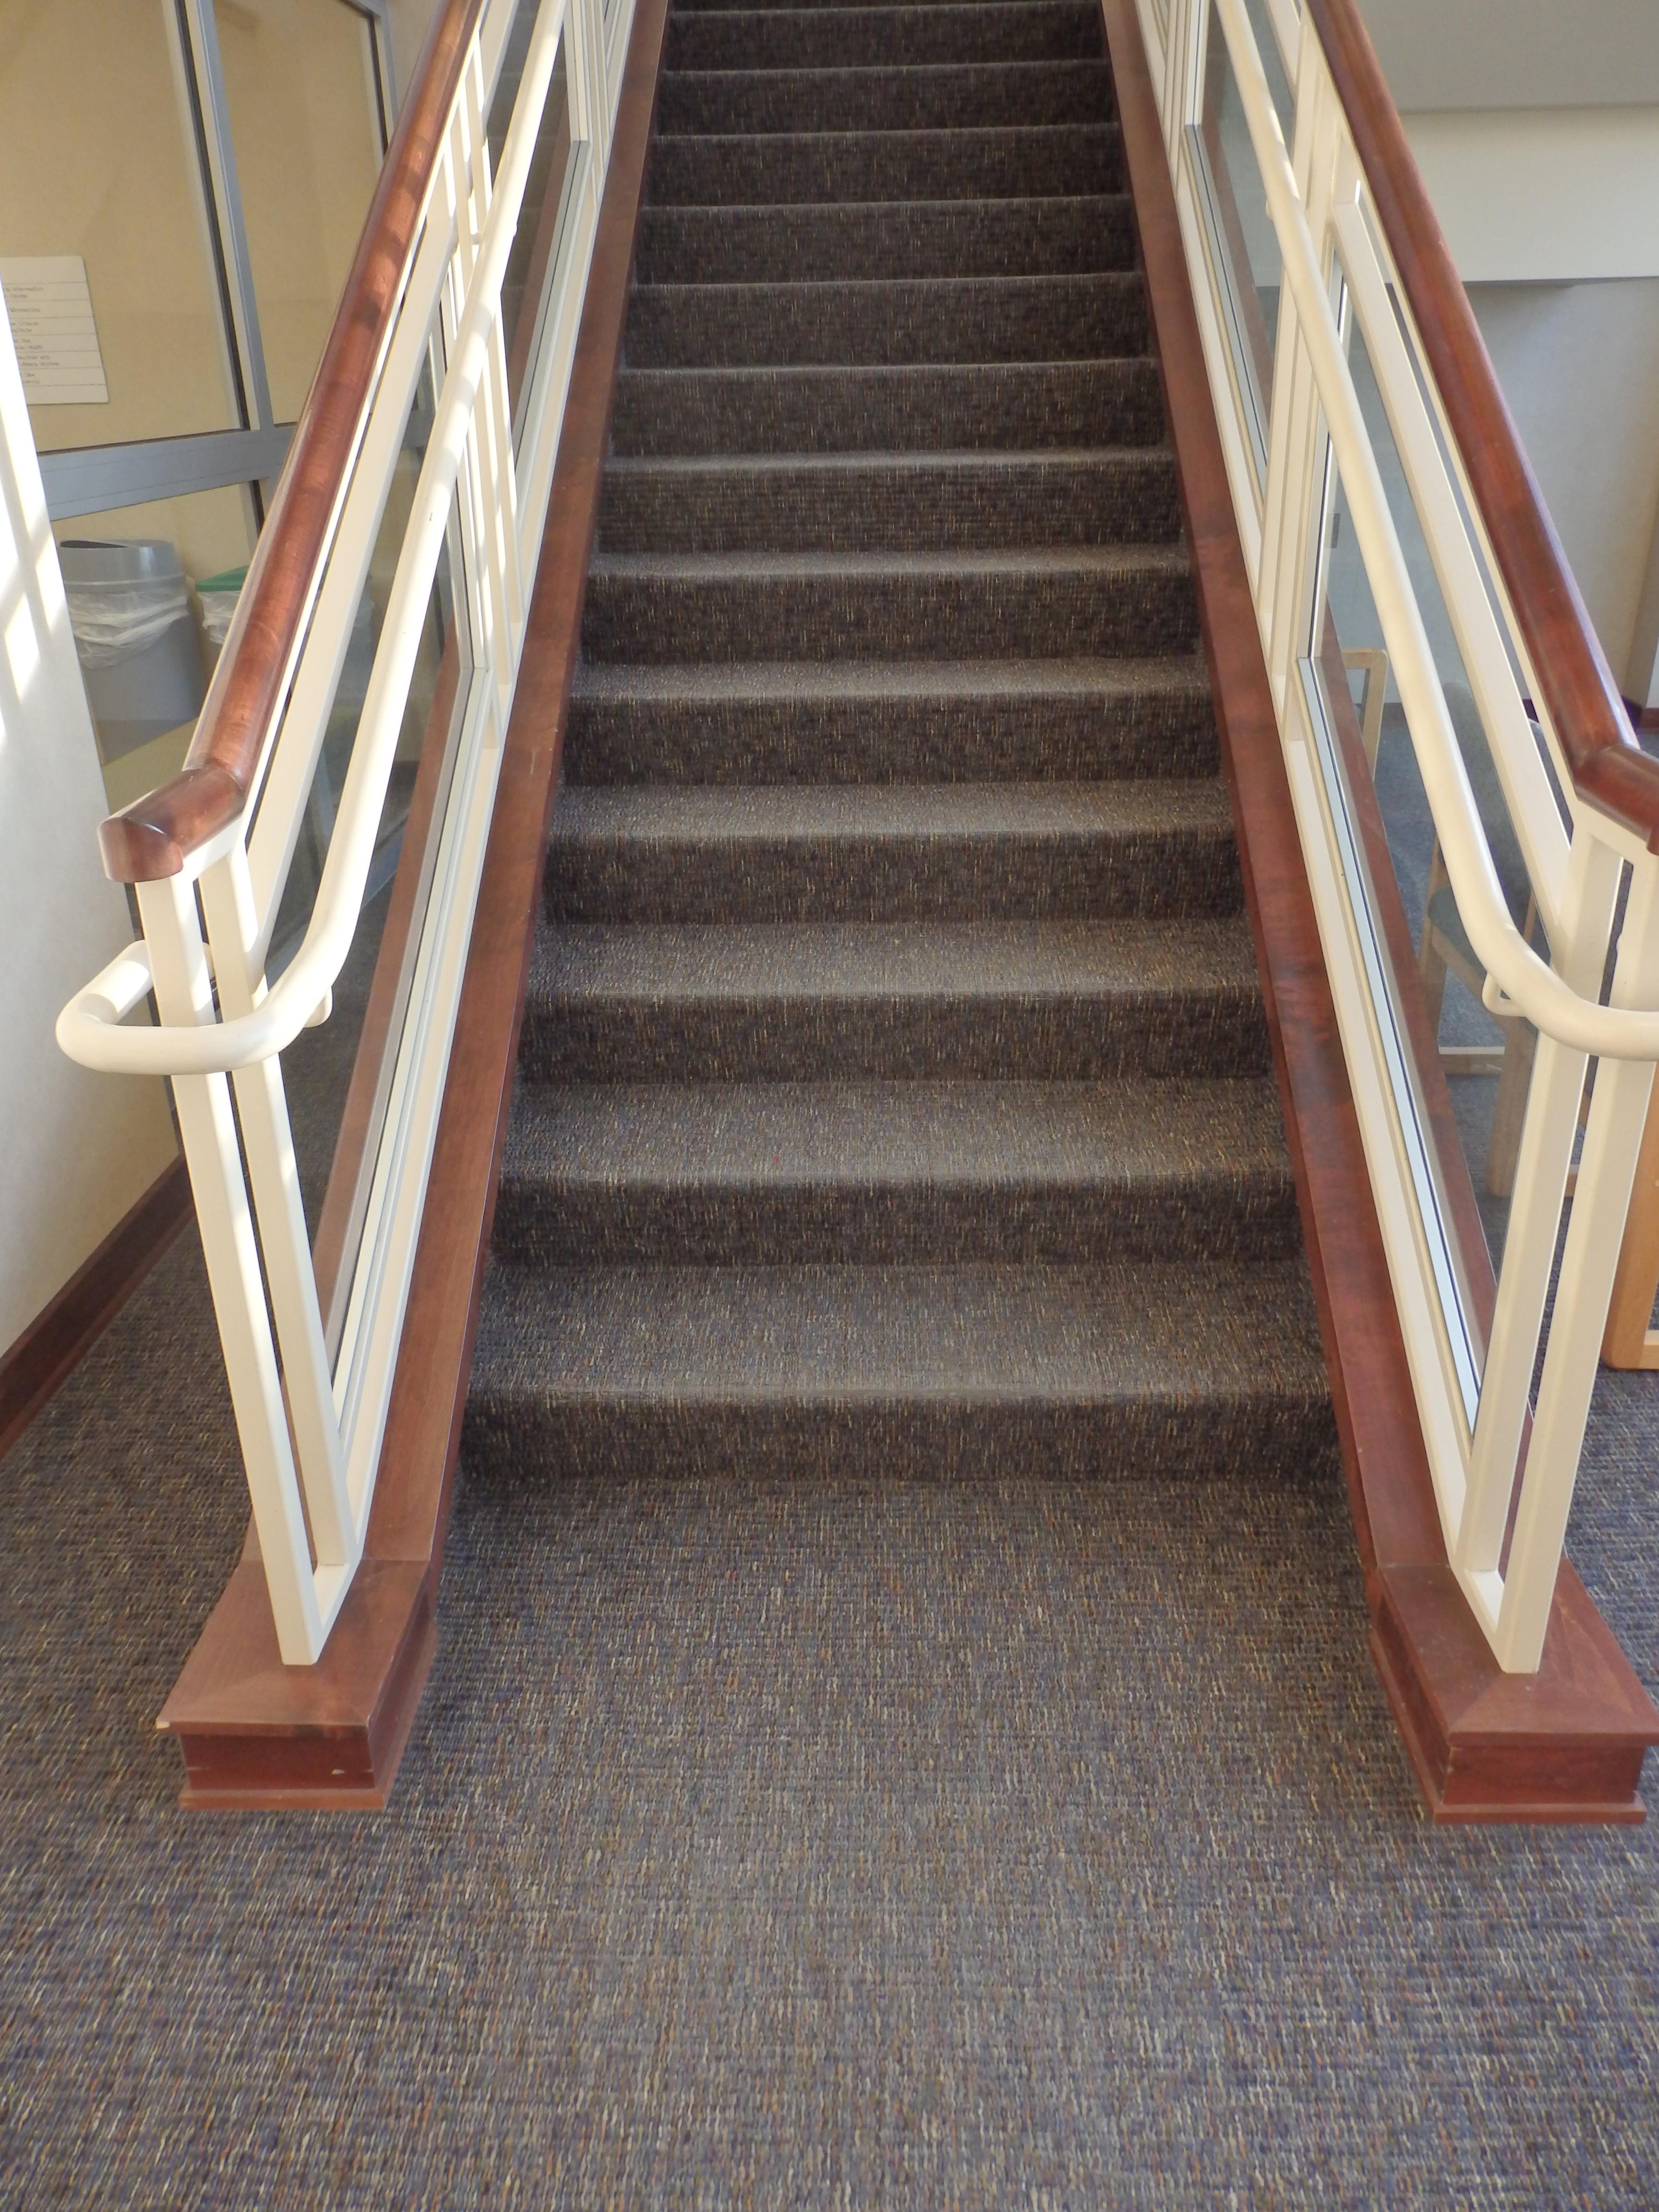stairs_up: (530, 0, 1251, 1559)
